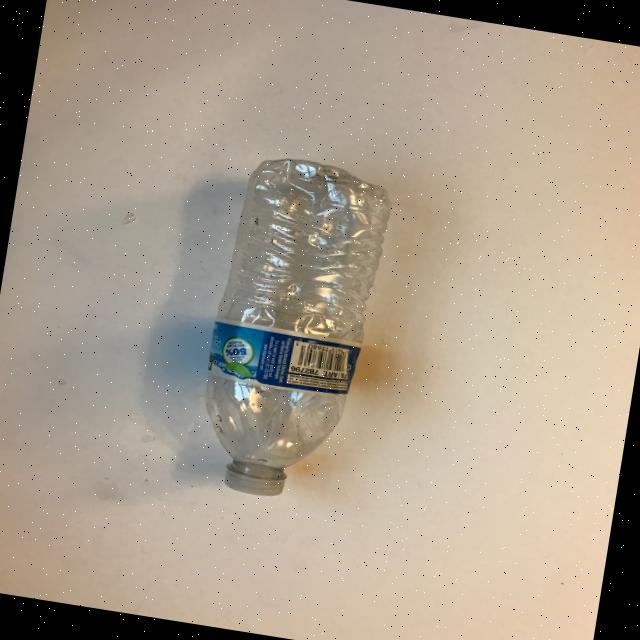plastic: (187, 149, 397, 508)
